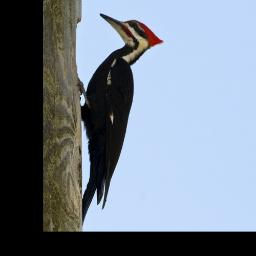Woodpecker: (79, 11, 167, 209)
